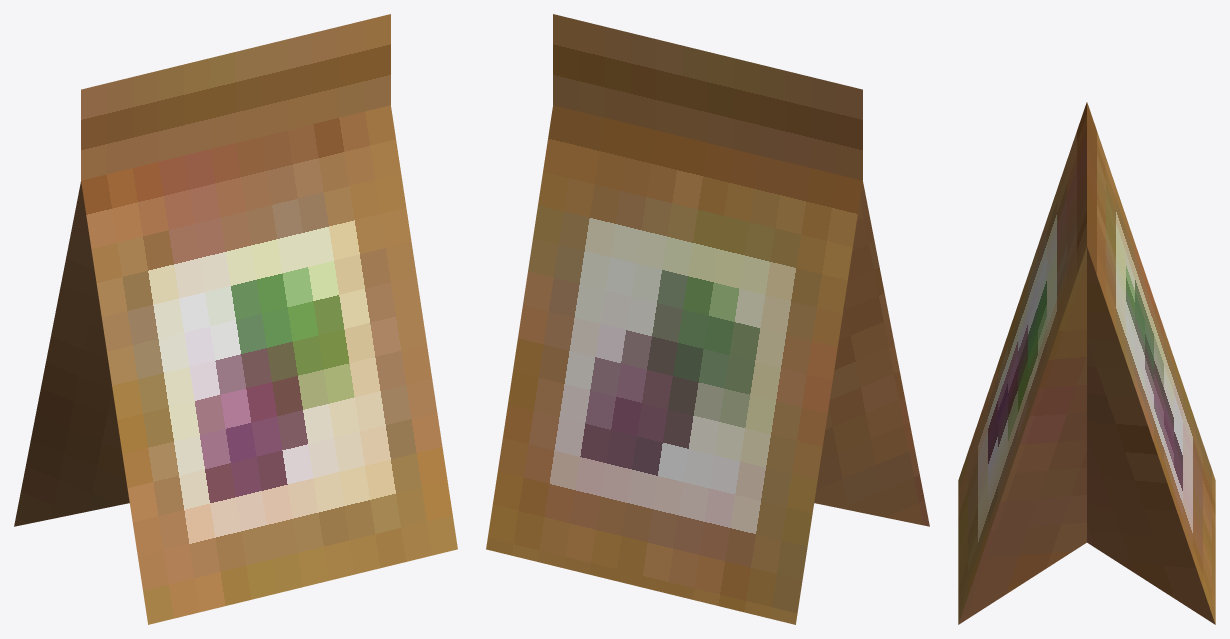
File: beet_seeds-optimized.glb
The picture shows the model from 3 angles, left to right: view 1: azimuth 30°, elevation 25°; view 2: azimuth 150°, elevation 25°; view 3: azimuth 270°, elevation 25°; orthographic projection. The views are drawn at different scales.
Parts seen in each view (by area): view 1: cuboid; view 2: cuboid; view 3: cuboid.
Part boxes in pixels (x1=…): cuboid: x1=14, y1=14, x2=457, y2=624; cuboid: x1=486, y1=14, x2=929, y2=624; cuboid: x1=958, y1=102, x2=1215, y2=624.
Bounding box in the file's own units: 0.5 × 0.75 × 0.375.
Materials: 1 (1 with a texture image).
